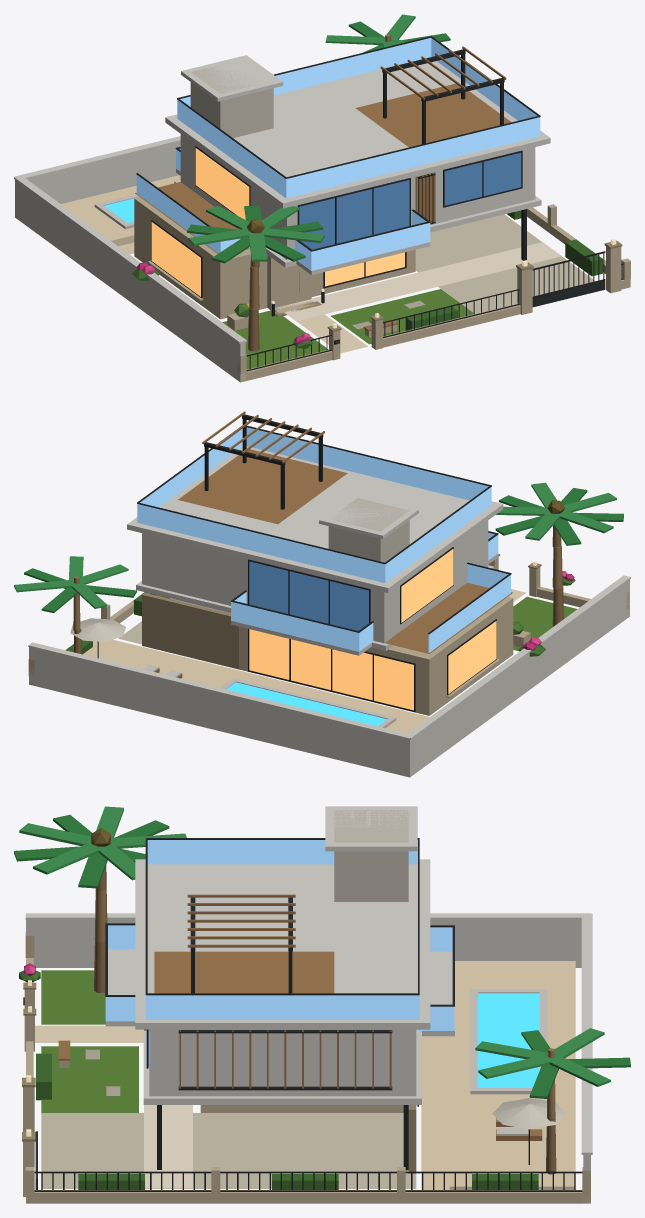
File: villa-c1.glb
3 views of the same model, one above another, from view 1: azimuth 30°, elevation 25°; view 2: azimuth 150°, elevation 25°; view 3: azimuth 270°, elevation 25° (orthographic). The views are drawn at different scales.
Size of the model in its own units: 24.13 by 9.53 by 24.03.
